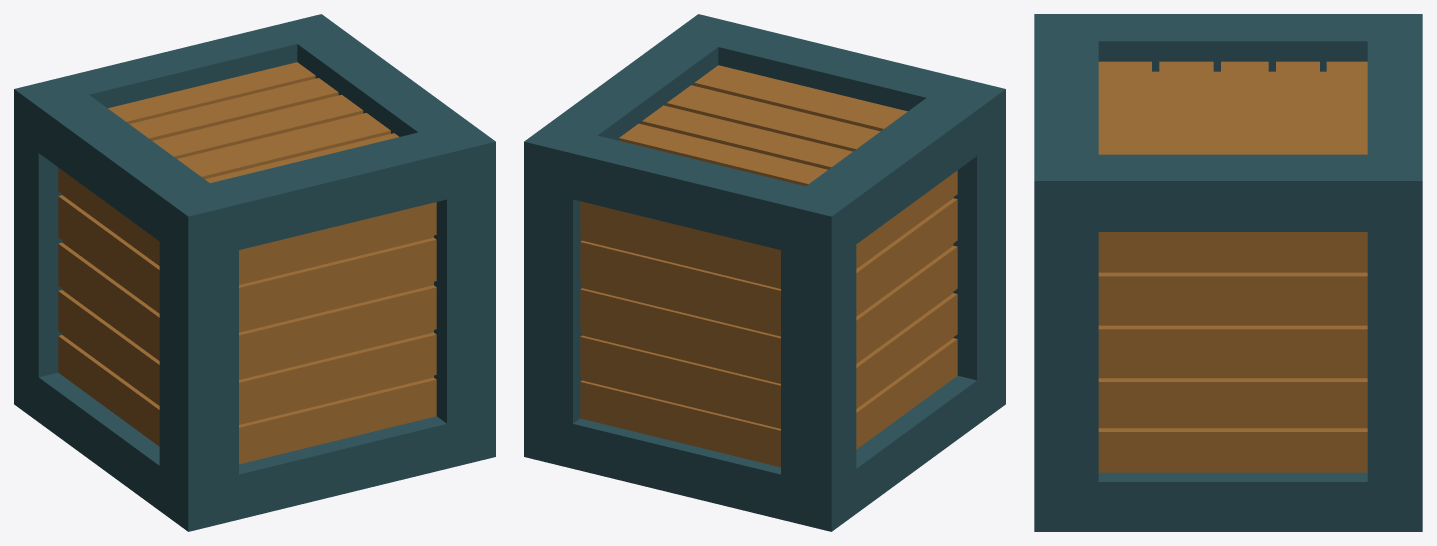
Rendered from drop_box.fbx.
3 views of the same model, side by side, from view 1: azimuth 30°, elevation 25°; view 2: azimuth 150°, elevation 25°; view 3: azimuth 270°, elevation 25° (orthographic). The views are drawn at different scales.
Parts seen in each view (by area): view 1: Cube.1961; view 2: Cube.1961; view 3: Cube.1961.
Boxes of the visible parts, x1,y1,x2,y2 form: Cube.1961: (14, 14, 495, 531); Cube.1961: (524, 14, 1005, 531); Cube.1961: (1034, 14, 1422, 531).
Size of the model in its own units: 333 by 326 by 327.
